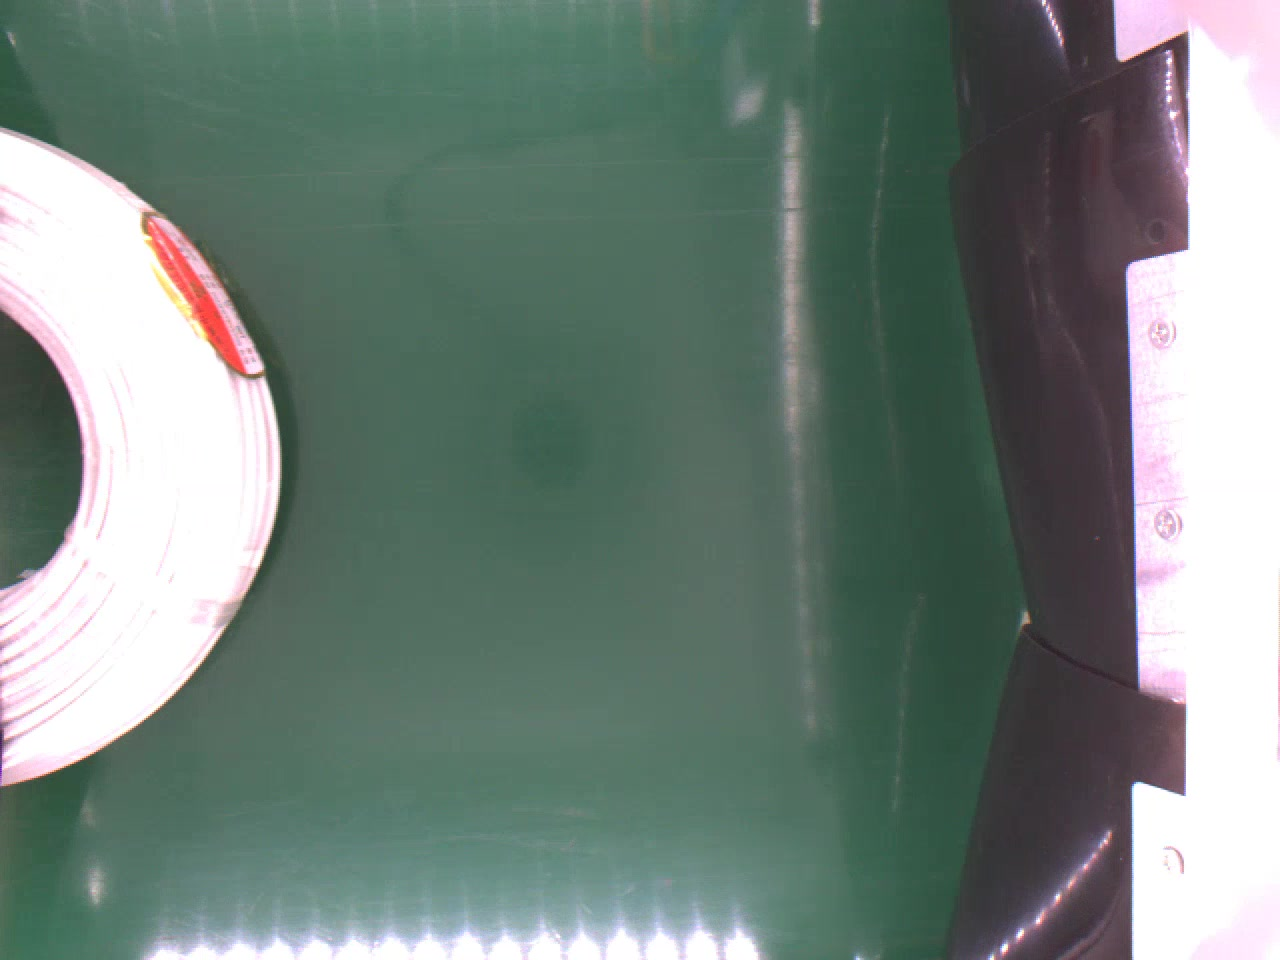white: (0, 121, 284, 790)
